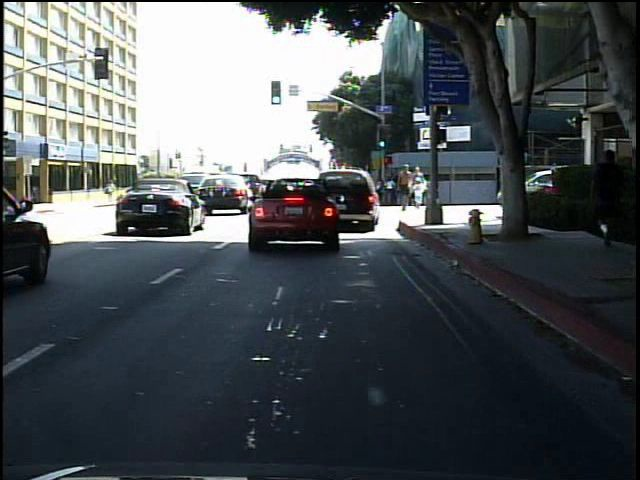person: (586, 141, 627, 250), (395, 164, 416, 215), (411, 176, 428, 210), (103, 178, 118, 204)
